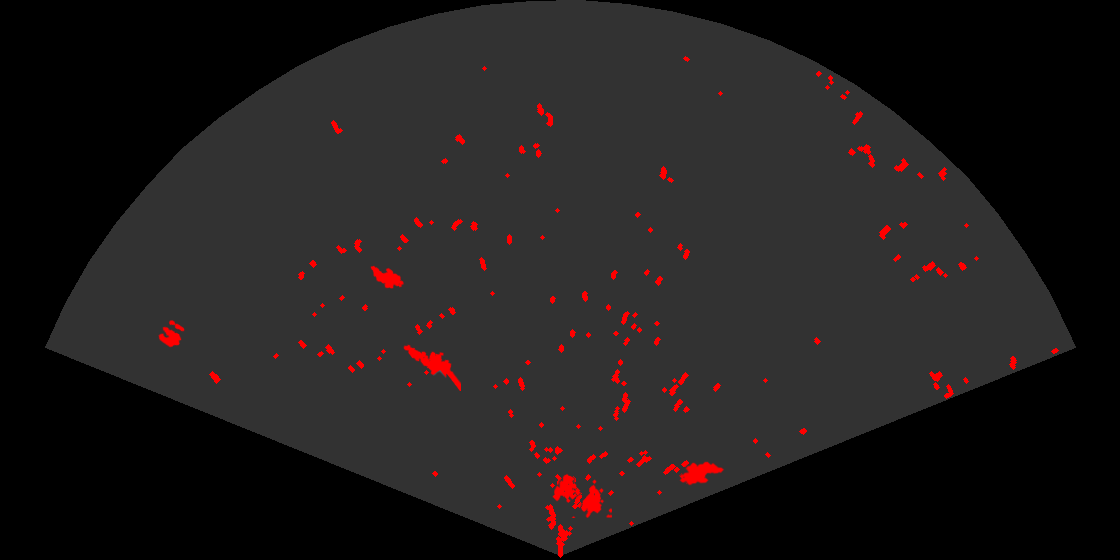AUV: (678, 460, 726, 487), (369, 264, 406, 290)
ball: (157, 319, 186, 349)
cage: (551, 472, 612, 518)
frogman: (402, 343, 461, 391)
